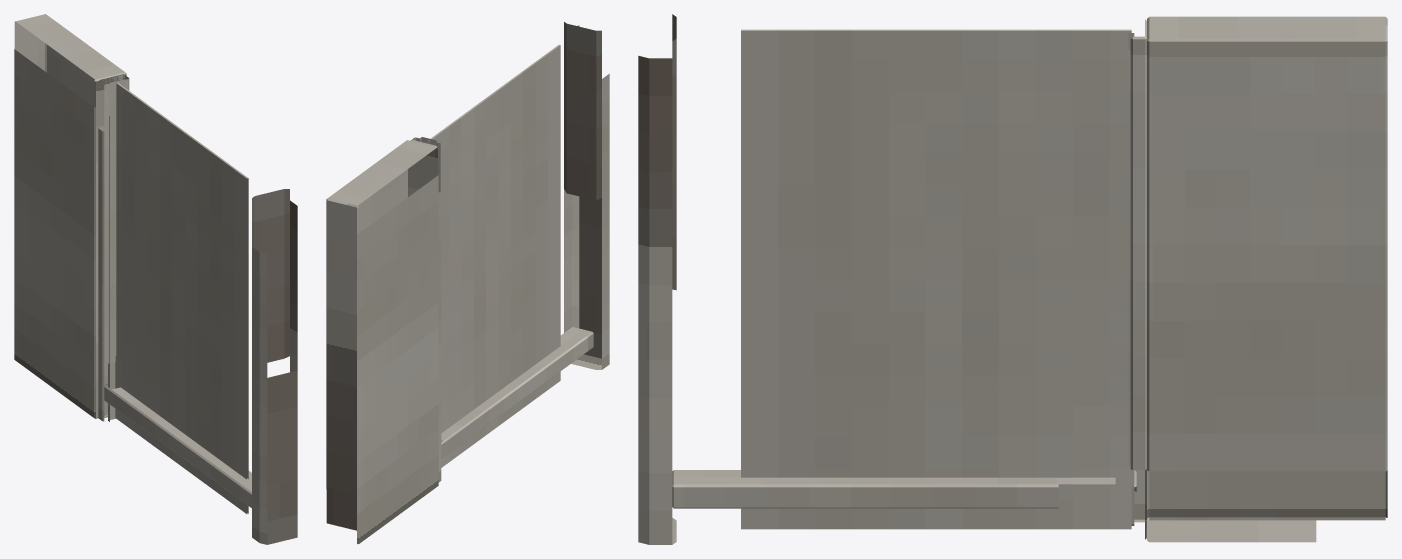
3 renders of one model, left to right at view 1: azimuth 30°, elevation 25°; view 2: azimuth 150°, elevation 25°; view 3: azimuth 270°, elevation 25°, orthographic. The views are drawn at different scales.
Size of the model in its own units: 0.088 by 0.75 by 1.01.
